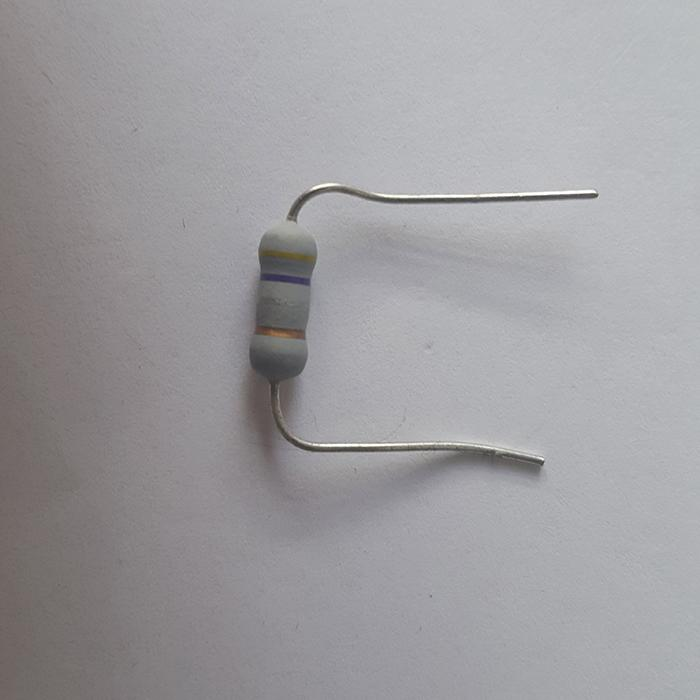resistor: (249, 219, 318, 384)
